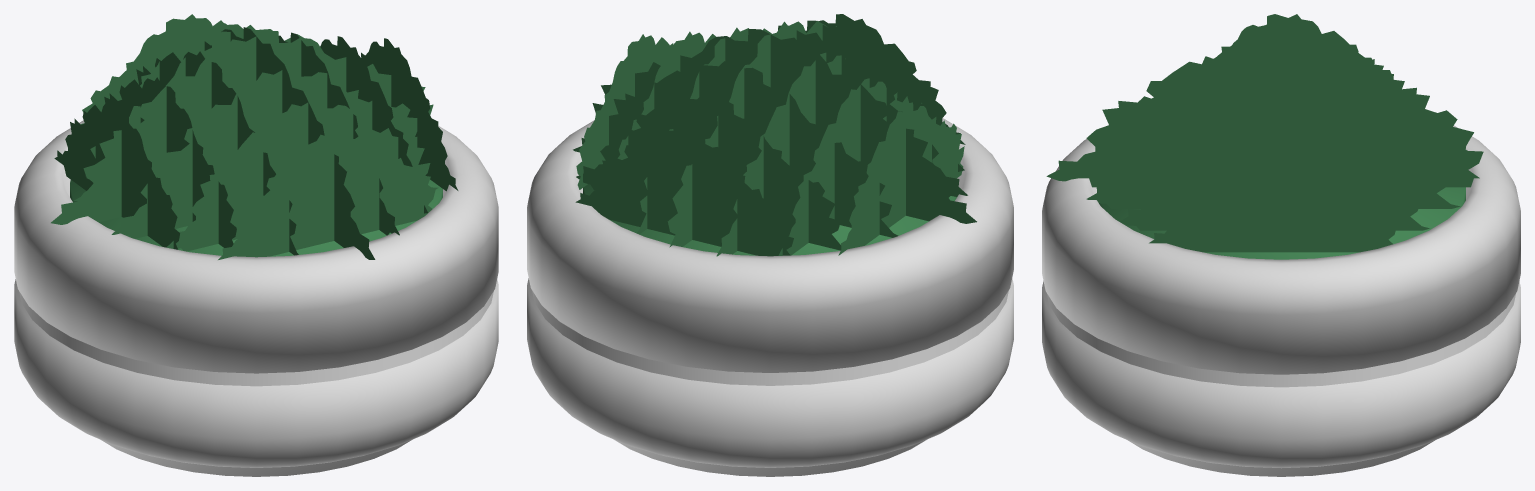
File: planter.glb
The picture shows the model from 3 angles, left to right: view 1: azimuth 30°, elevation 25°; view 2: azimuth 150°, elevation 25°; view 3: azimuth 270°, elevation 25°; orthographic projection.
Visible parts, largest first — view 1: Concret011, Leaves 011, Metal 011; view 2: Concret011, Leaves 011, Metal 011; view 3: Concret011, Leaves 011, Metal 011.
Part boxes in pixels (x1=…): Concret011: x1=14, y1=120, x2=498, y2=476; Leaves 011: x1=51, y1=14, x2=458, y2=259; Metal 011: x1=19, y1=291, x2=493, y2=386; Concret011: x1=527, y1=118, x2=1013, y2=476; Leaves 011: x1=573, y1=14, x2=976, y2=256; Metal 011: x1=532, y1=290, x2=1008, y2=385; Concret011: x1=1042, y1=125, x2=1520, y2=476; Leaves 011: x1=1046, y1=14, x2=1483, y2=259; Metal 011: x1=1047, y1=294, x2=1515, y2=387.
Bounding box in the file's own units: 1.22 × 1.02 × 1.22.
